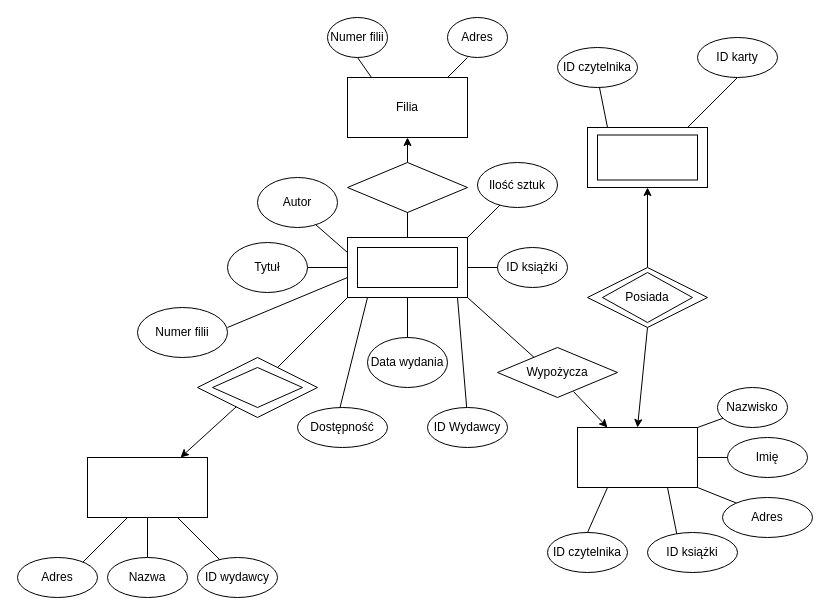
Some shapes in this 830 by 615 pixel diagram are drawn without their labels. Each missing label, with the centre of its shape:
Czytelnik: pixel 637 457
Karta biblioteczna: pixel 647 157
Książki: pixel 407 267
Wydaje: pixel 257 387
Wydawca: pixel 147 487
Znajdują się w: pixel 407 187
